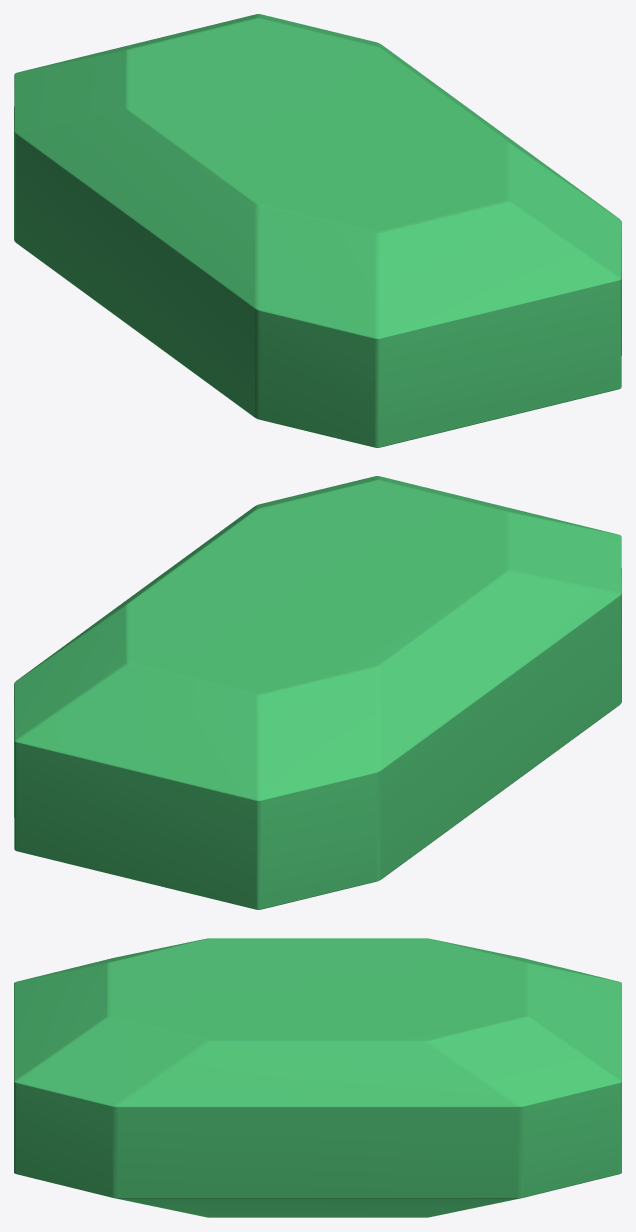
Rendered from Gem 2.fbx.
The picture shows the model from 3 angles, top to bottom: view 1: azimuth 30°, elevation 25°; view 2: azimuth 150°, elevation 25°; view 3: azimuth 270°, elevation 25°; orthographic projection. The views are drawn at different scales.
Visible parts, largest first — view 1: Cube; view 2: Cube; view 3: Cube.
Boxes of the visible parts, left/top/right/bottom form: Cube: left=14, top=14, right=621, bottom=447; Cube: left=14, top=476, right=621, bottom=909; Cube: left=14, top=938, right=621, bottom=1217.
Size of the model in its own units: 200 by 110 by 344.
